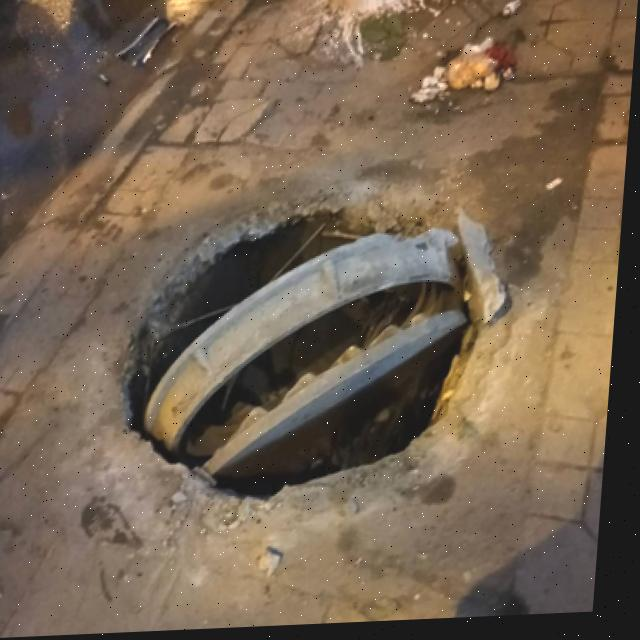manhole: (108, 180, 526, 510)
